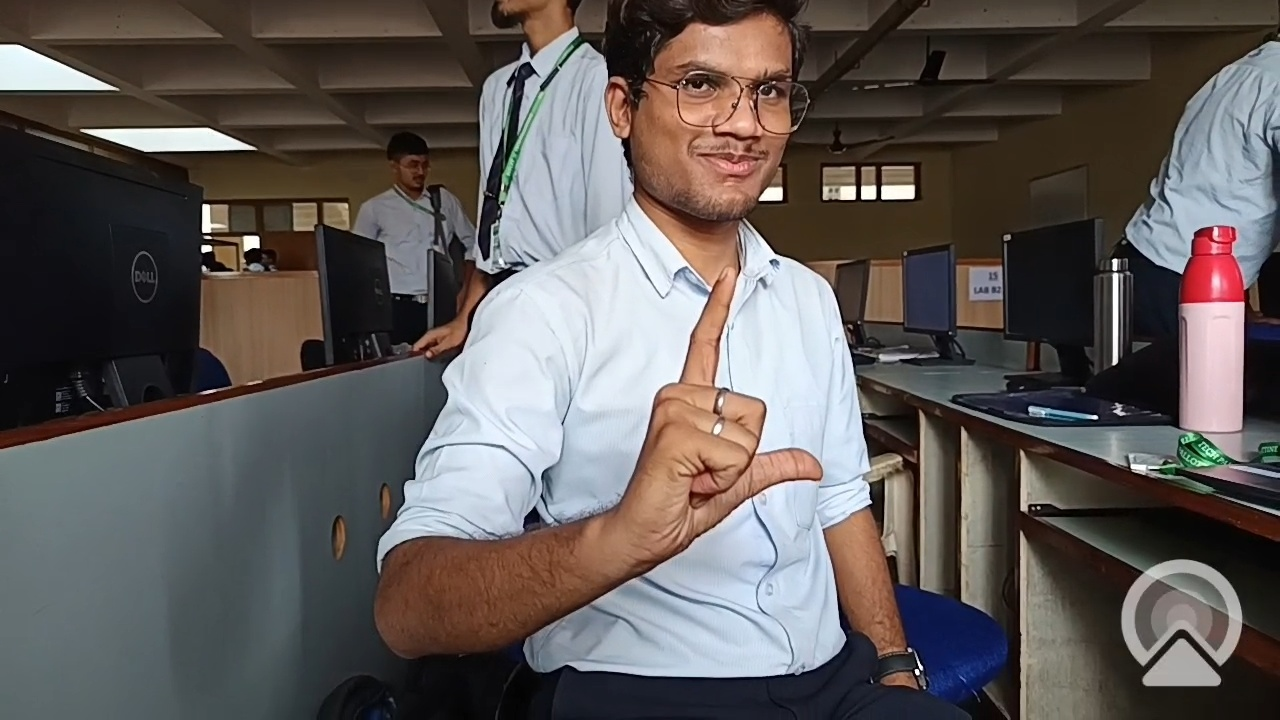L: (607, 237, 846, 554)
